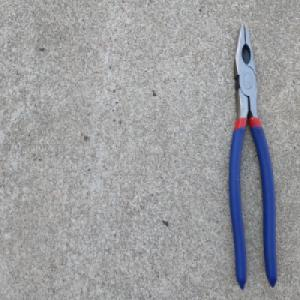Pliers: (227, 21, 279, 291)
